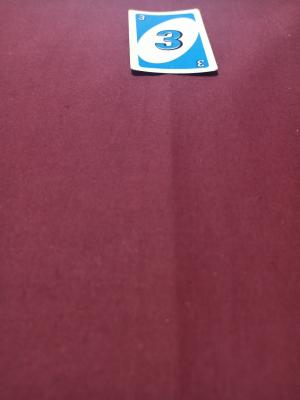blue: (136, 14, 207, 72)
num_3: (194, 57, 206, 69), (138, 15, 149, 23)
